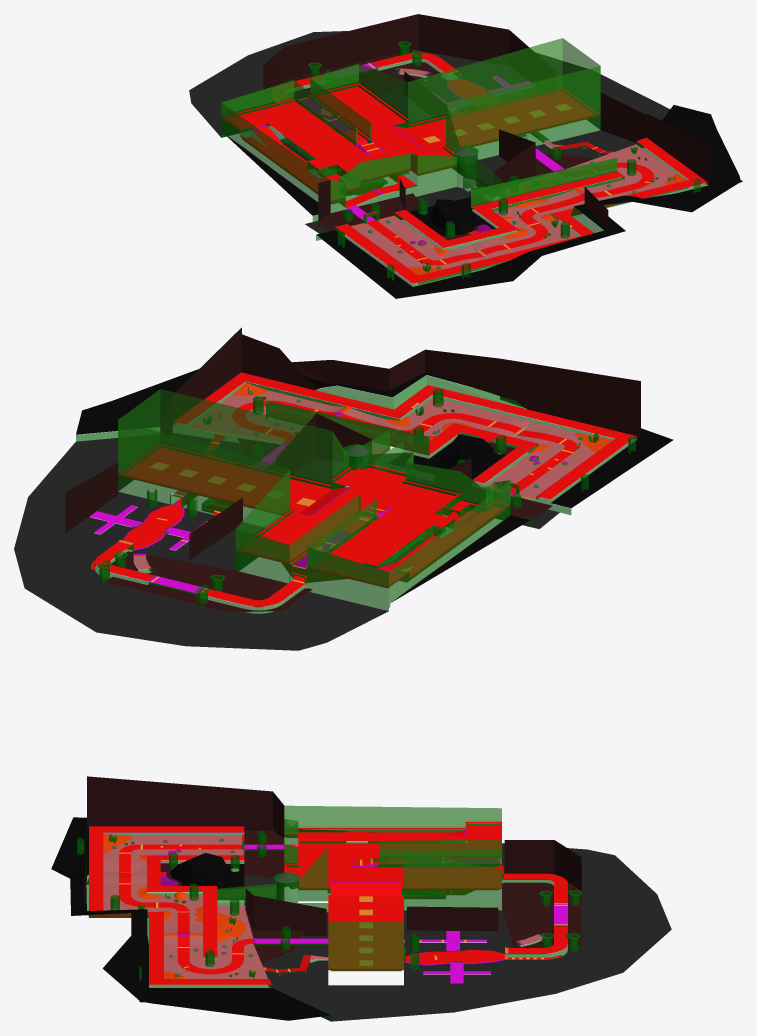
The model's file is course.obj.
3 renders of one model, top to bottom at view 1: azimuth 30°, elevation 25°; view 2: azimuth 150°, elevation 25°; view 3: azimuth 270°, elevation 25°, orthographic. The views are drawn at different scales.
Visible parts, largest first — view 1: wall_1f_F001f, road_00_F0000, fall_10_F0010, wall_0c_F000c, fall_0a_F002a, fall_10_F0030, offroad_03_F0003, offroad_03_F2003, road_00_F0080, road_16_F00d6, road_00_F2080; view 2: road_00_F0000, wall_1f_F001f, fall_10_F0010, fall_10_F0030, wall_0c_F000c, fall_0a_F002a, offroad_03_F0003, road_00_F0080, offroad_03_F2003, road_00_F2080; view 3: road_00_F0000, fall_10_F0030, fall_10_F0010, wall_1f_F001f, wall_0c_F000c, fall_0a_F002a, offroad_03_F0003, road_00_F0080, offroad_03_F2003, road_00_F2080, fast_08_F0088.
Part boxes in pixels (x1,y1,x2,y2): wall_1f_F001f: [221, 38, 617, 205]; road_00_F0000: [222, 52, 707, 283]; fall_10_F0010: [263, 14, 709, 240]; wall_0c_F000c: [221, 41, 707, 286]; fall_0a_F002a: [224, 105, 742, 298]; fall_10_F0030: [189, 31, 669, 233]; offroad_03_F0003: [232, 68, 676, 268]; offroad_03_F2003: [324, 110, 687, 275]; road_00_F0080: [346, 63, 563, 221]; road_16_F00d6: [287, 98, 492, 232]; road_00_F2080: [252, 62, 706, 281]; road_00_F0000: [91, 372, 636, 606]; wall_1f_F001f: [118, 389, 510, 585]; fall_10_F0010: [65, 327, 640, 612]; fall_10_F0030: [14, 433, 559, 650]; wall_0c_F000c: [76, 375, 637, 613]; fall_0a_F002a: [76, 369, 673, 602]; offroad_03_F0003: [133, 390, 595, 596]; road_00_F0080: [89, 444, 514, 592]; offroad_03_F2003: [232, 383, 612, 550]; road_00_F2080: [122, 372, 636, 593]; road_00_F0000: [89, 822, 567, 984]; fall_10_F0030: [244, 843, 671, 1021]; fall_10_F0010: [84, 776, 581, 963]; wall_1f_F001f: [217, 805, 502, 968]; wall_0c_F000c: [77, 820, 581, 1021]; fall_0a_F002a: [51, 817, 330, 1020]; offroad_03_F0003: [103, 835, 542, 978]; road_00_F0080: [244, 844, 567, 982]; offroad_03_F2003: [103, 834, 452, 978]; road_00_F2080: [89, 826, 567, 984]; fast_08_F0088: [359, 896, 372, 965].
Bounding box in the file's own units: 196331 × 21422 × 215755.
